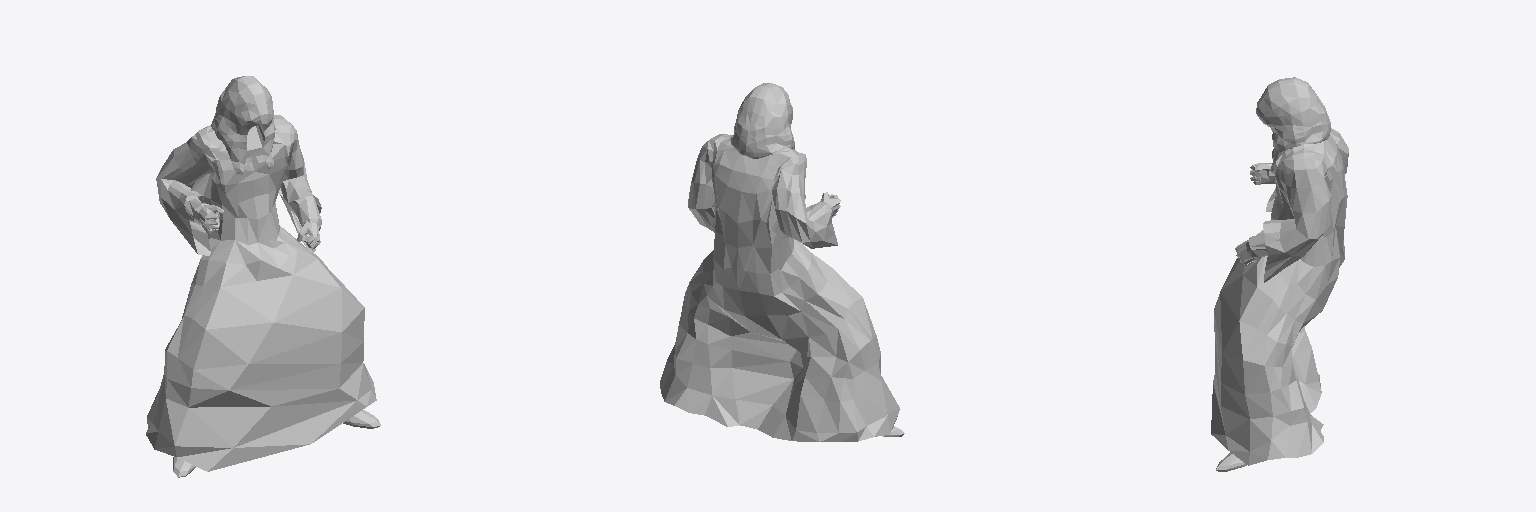
File: Fellbeast_Animate_Flying_40.obj
The picture shows the model from 3 angles: view 1: azimuth 30°, elevation 25°; view 2: azimuth 150°, elevation 25°; view 3: azimuth 270°, elevation 25°; orthographic projection.
Parts seen in each view (by area): view 1: dm_nazgulrobe_ride_241108; view 2: dm_nazgulrobe_ride_241108; view 3: dm_nazgulrobe_ride_241108.
Boxes of the visible parts, box(x1,y1,x2,y2) form: dm_nazgulrobe_ride_241108: box(146, 76, 380, 477); dm_nazgulrobe_ride_241108: box(660, 83, 904, 441); dm_nazgulrobe_ride_241108: box(1211, 77, 1348, 471).
Size of the model in its own units: 0.442 by 0.6637 by 0.2367.